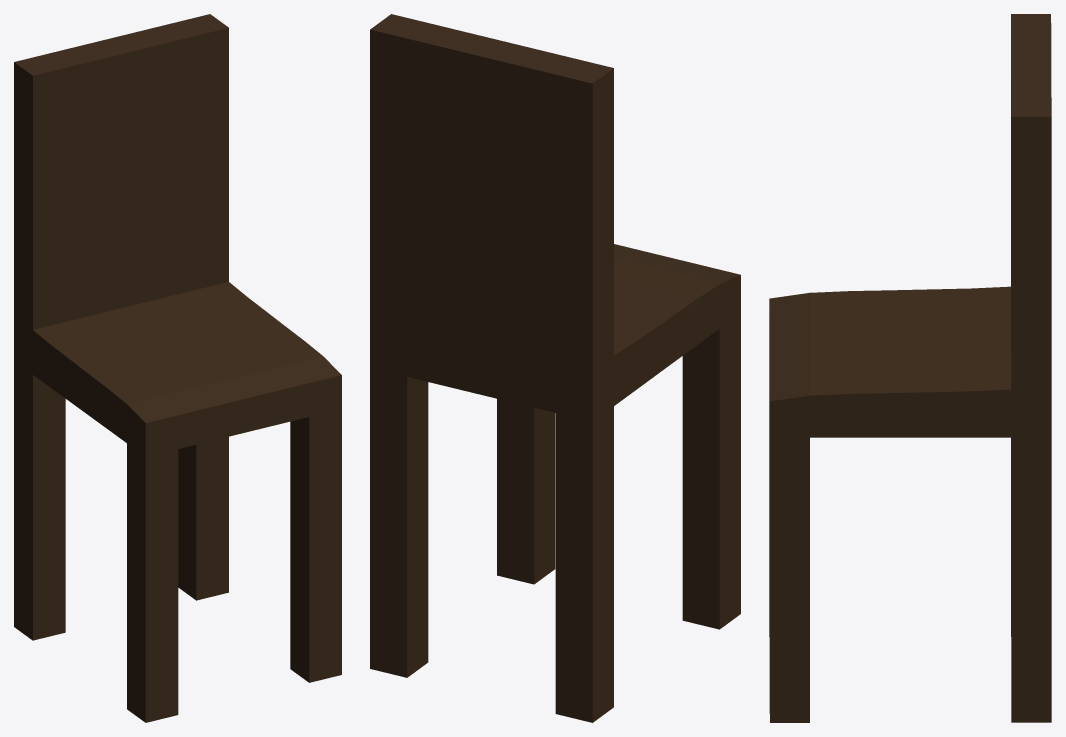
The model's file is sandalye1.fbx.
3 views of the same model, side by side, from view 1: azimuth 30°, elevation 25°; view 2: azimuth 150°, elevation 25°; view 3: azimuth 270°, elevation 25° (orthographic). The views are drawn at different scales.
Parts seen in each view (by area): view 1: sandalye1.001; view 2: sandalye1.001; view 3: sandalye1.001.
Boxes of the visible parts, x1=… form: sandalye1.001: x1=14, y1=14, x2=341, y2=722; sandalye1.001: x1=370, y1=14, x2=740, y2=722; sandalye1.001: x1=769, y1=14, x2=1051, y2=722.
Size of the model in its own units: 161 by 441 by 186.
